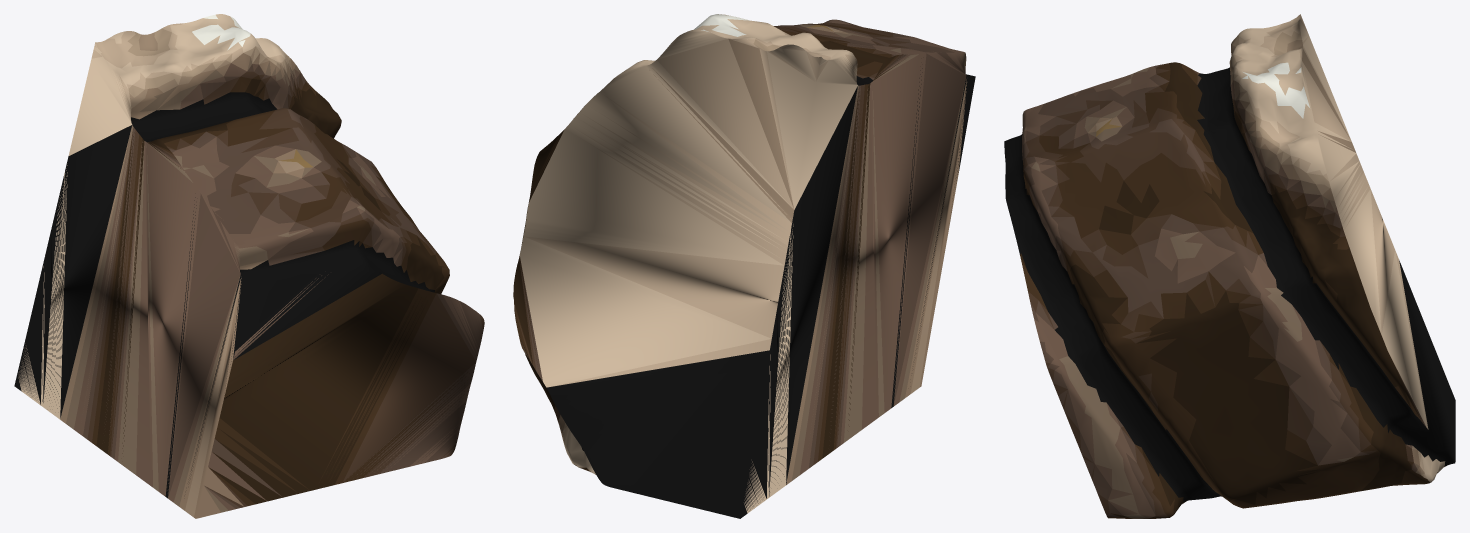
File: rock_column_mr.glb
3 views of the same model, side by side, from view 1: azimuth 30°, elevation 25°; view 2: azimuth 150°, elevation 25°; view 3: azimuth 270°, elevation 25° (orthographic). The views are drawn at different scales.
Visible parts, largest first — view 1: rock_column_mr; view 2: rock_column_mr; view 3: rock_column_mr.
Boxes of the visible parts, x1,y1,x2,y2 form: rock_column_mr: (14, 14, 484, 518); rock_column_mr: (513, 14, 975, 518); rock_column_mr: (1004, 14, 1455, 518).
Bounding box in the file's own units: 23.21 × 34.74 × 36.38.
